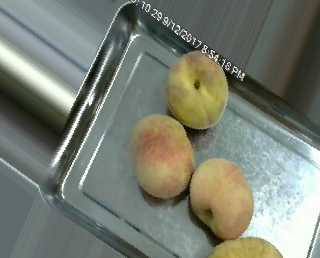Peach: (129, 111, 194, 200), (188, 157, 253, 240), (166, 50, 229, 129)
